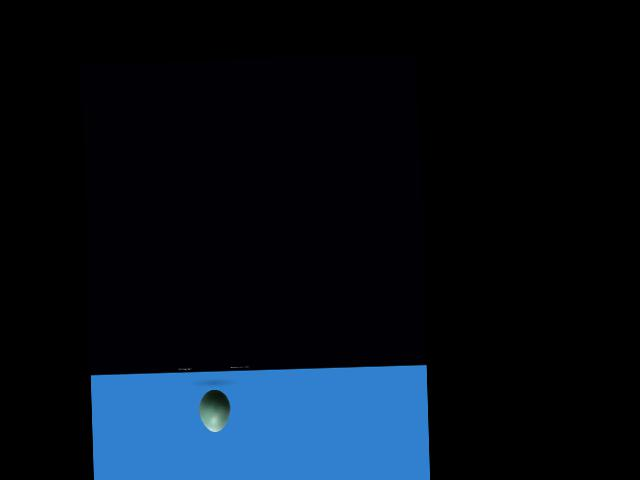egg: (199, 389, 231, 432)
